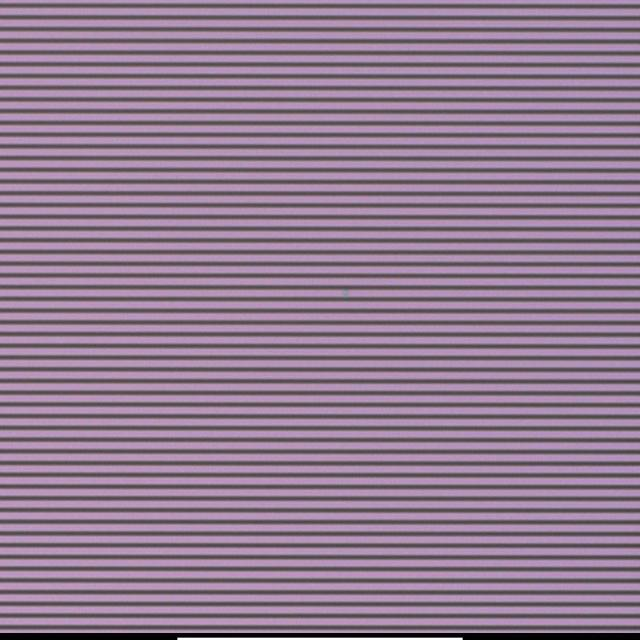nonvisual: (343, 290, 350, 301)
